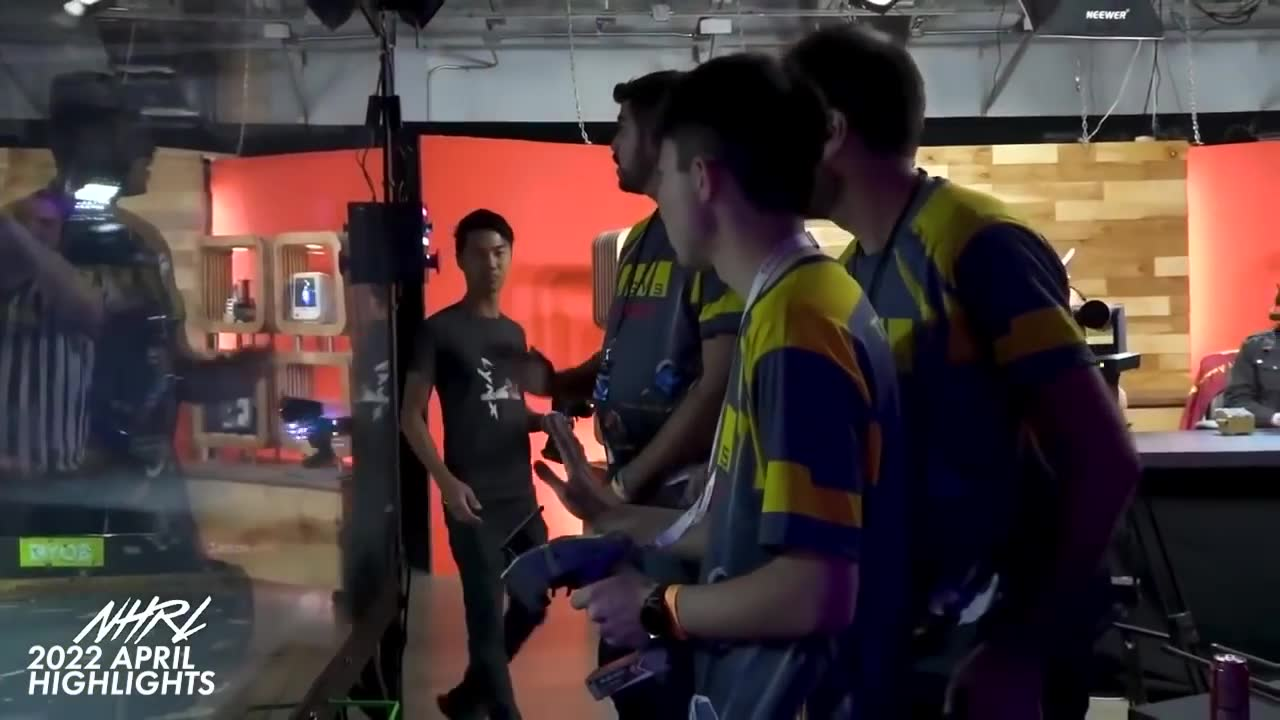combatbot: (1223, 322, 1280, 435)
